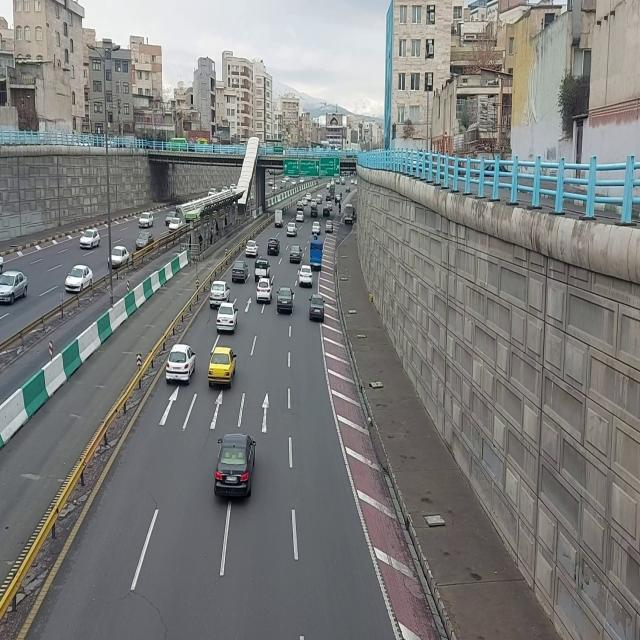Car: (212, 435, 256, 503), (208, 346, 238, 389), (165, 343, 197, 379), (0, 269, 28, 305), (64, 264, 94, 292), (217, 302, 240, 334), (209, 279, 231, 309), (308, 292, 326, 323), (107, 246, 129, 271), (277, 286, 295, 315), (256, 276, 274, 304), (231, 260, 249, 286), (79, 229, 101, 249), (135, 232, 154, 251), (299, 264, 313, 289), (290, 244, 304, 264), (267, 236, 281, 256), (138, 212, 154, 228), (245, 240, 259, 258), (168, 218, 182, 234), (287, 221, 298, 237), (312, 221, 322, 236), (325, 219, 333, 235), (310, 205, 319, 219), (295, 210, 305, 222), (323, 205, 331, 219), (297, 201, 305, 211), (310, 198, 317, 208), (345, 186, 351, 194)
Motorcycle: (338, 202, 342, 215), (313, 232, 319, 240), (335, 196, 338, 206), (340, 191, 343, 201)
Pickup: (310, 240, 324, 270), (274, 208, 284, 229)
